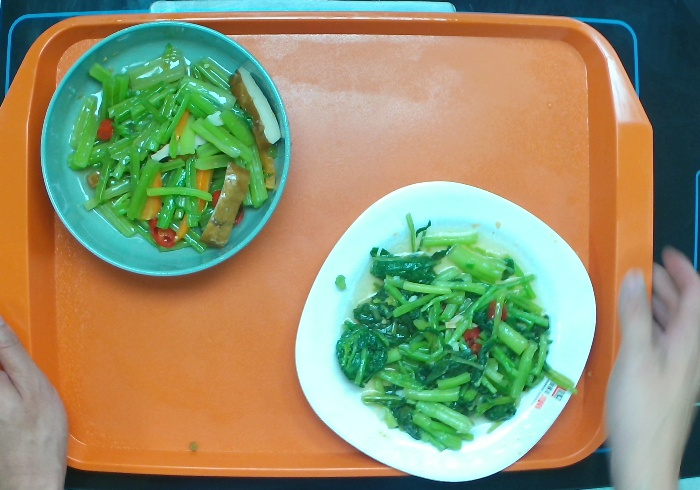ZNLD-Qing_Hua_Yuan_Wan: (39, 19, 291, 277)
ZNLD-Yuan_Jiao_Pan: (292, 179, 598, 484)
